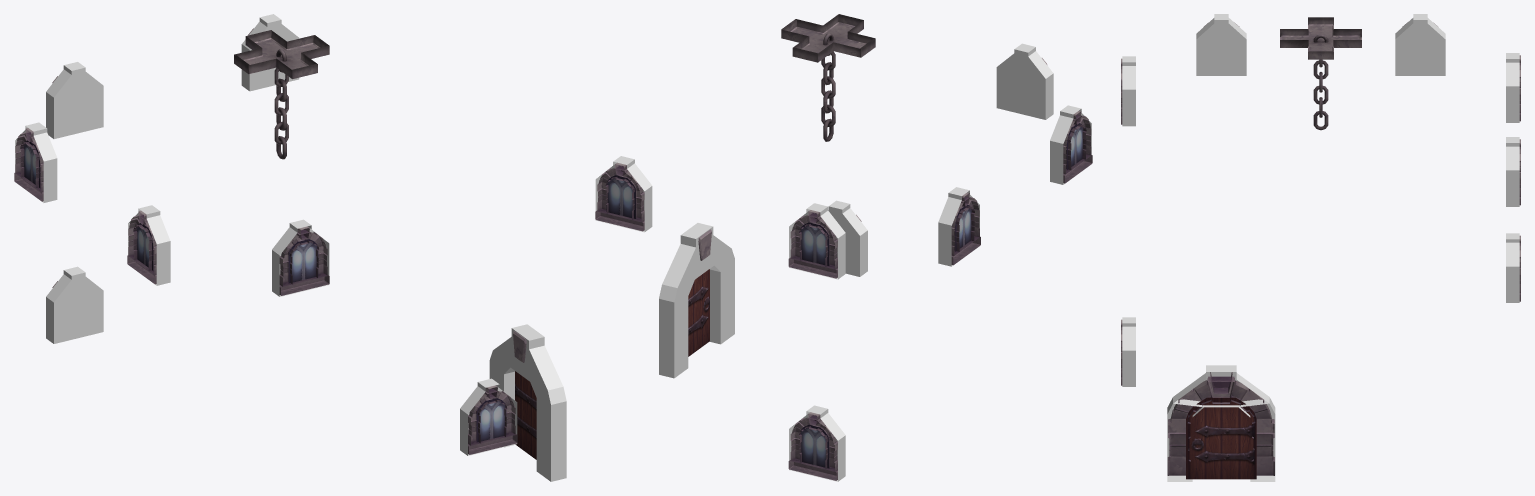
File: Window01.FBX
3 renders of one model, left to right at view 1: azimuth 30°, elevation 25°; view 2: azimuth 150°, elevation 25°; view 3: azimuth 270°, elevation 25°, orthographic. The views are drawn at different scales.
Visible parts, largest first — view 1: Collide03, Collide01, Poutre, Collide09, Window07, Window06, Collide10, Door00, Window05, Window04, Collide02, Collide11 (+5 smaller); view 2: Collide07, Poutre, Collide08, Window01, Window03, Window02, Collide10, Collide09, Door00, Collide06, Window05, Window04 (+6 smaller); view 3: Door00, Collide05, Collide04, Poutre, Collide10, Collide07, Collide06, Collide02, Collide01, Collide03, Collide11, Collide08 (+1 smaller).
Part boxes in pixels (x1,y1,x2,y2): Collide03: [46, 266, 103, 343]; Collide01: [46, 62, 103, 138]; Poutre: [235, 31, 327, 159]; Collide09: [530, 382, 566, 481]; Window07: [279, 226, 329, 295]; Window06: [468, 385, 517, 454]; Collide10: [493, 324, 563, 390]; Door00: [513, 331, 536, 459]; Window05: [14, 128, 43, 201]; Window04: [127, 210, 156, 284]; Collide02: [241, 14, 299, 91]; Collide11: [234, 30, 329, 79]; Collide07: [996, 43, 1053, 119]; Poutre: [783, 15, 873, 141]; Collide08: [659, 280, 694, 378]; Window01: [788, 210, 837, 278]; Window03: [788, 412, 837, 480]; Window02: [595, 162, 644, 231]; Collide10: [662, 223, 731, 287]; Collide09: [710, 248, 734, 344]; Door00: [688, 229, 711, 356]; Collide06: [828, 200, 867, 276]; Window05: [951, 192, 980, 265]; Window04: [1063, 111, 1092, 183]; Door00: [1167, 372, 1274, 479]; Collide05: [1395, 14, 1445, 75]; Collide04: [1196, 14, 1246, 75]; Poutre: [1281, 18, 1360, 130]; Collide10: [1173, 365, 1269, 407]; Collide07: [1122, 56, 1135, 126]; Collide06: [1122, 317, 1135, 386]; Collide02: [1506, 137, 1519, 206]; Collide01: [1506, 53, 1519, 122]; Collide03: [1506, 233, 1519, 302]; Collide11: [1280, 17, 1361, 59]; Collide08: [1238, 397, 1275, 481].
Bounding box in the file's own units: 101 × 101 × 101.
Materials: 3 (3 with a texture image).
